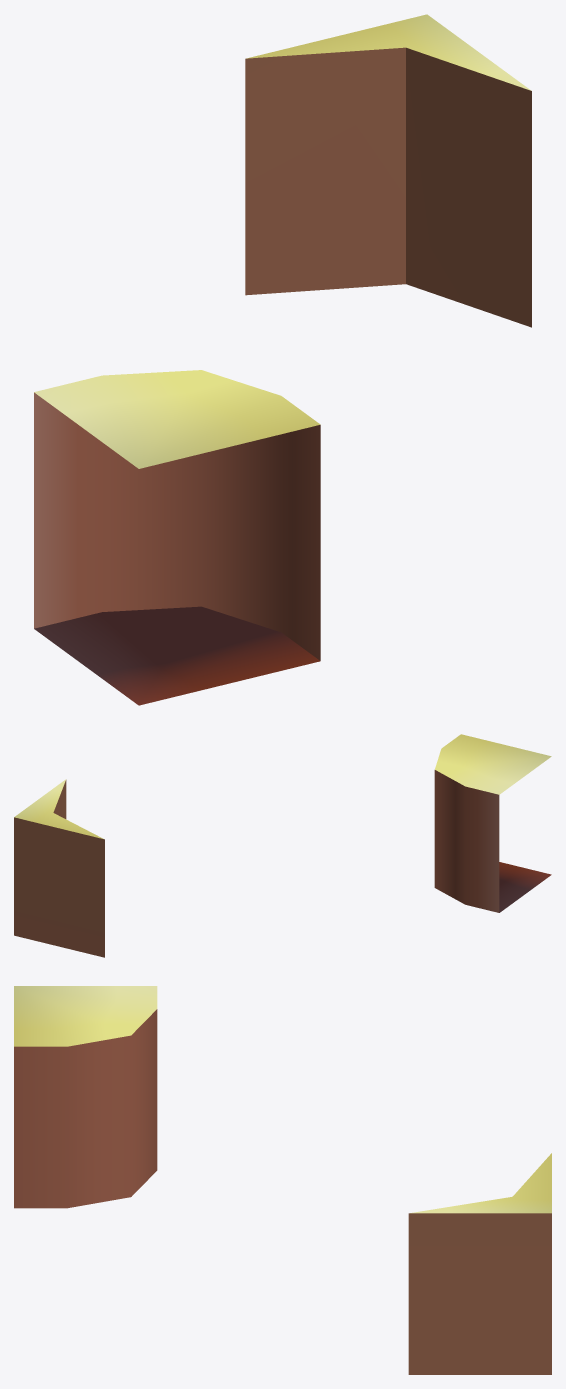
The model's file is SeaCorner.ConvexConcave.B.Desert.glb.
The picture shows the model from 3 angles, top to bottom: view 1: azimuth 30°, elevation 25°; view 2: azimuth 150°, elevation 25°; view 3: azimuth 270°, elevation 25°; orthographic projection. The views are drawn at different scales.
Visible parts, largest first — view 1: SeaCorner.ConvexConcave.B.Desert; view 2: SeaCorner.ConvexConcave.B.Desert; view 3: SeaCorner.ConvexConcave.B.Desert.
Part boxes in pixels (box(x1,y1,x2,y2)): SeaCorner.ConvexConcave.B.Desert: box(34, 14, 531, 705); SeaCorner.ConvexConcave.B.Desert: box(14, 734, 551, 957); SeaCorner.ConvexConcave.B.Desert: box(14, 986, 551, 1374).
Bounding box in the file's own units: 3 × 0.9943 × 3.
Materials: 1 (1 with a texture image).
